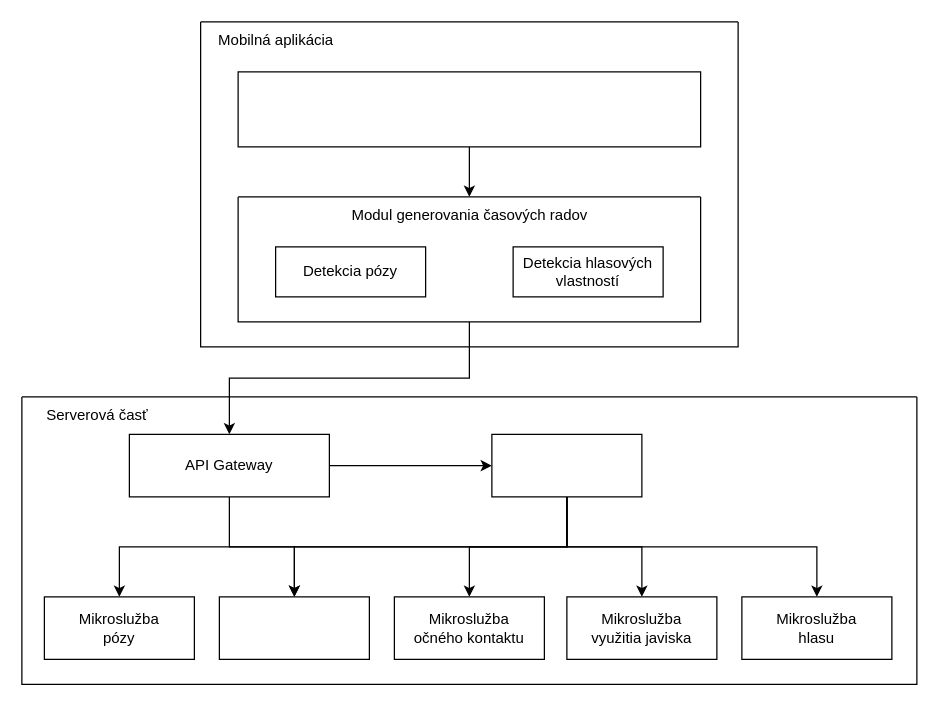
The diagram is 939 pixels wide and 706 high, and some of its shapes have lost their labels. Here are the shapes that lost their labels. From the top down, the centre of each, then its label:
At pixel 469 109: "Kamera zariadenia".
At pixel 566 465: "Mediator".
At pixel 293 627: "Mikroslužba gestikulácie".
